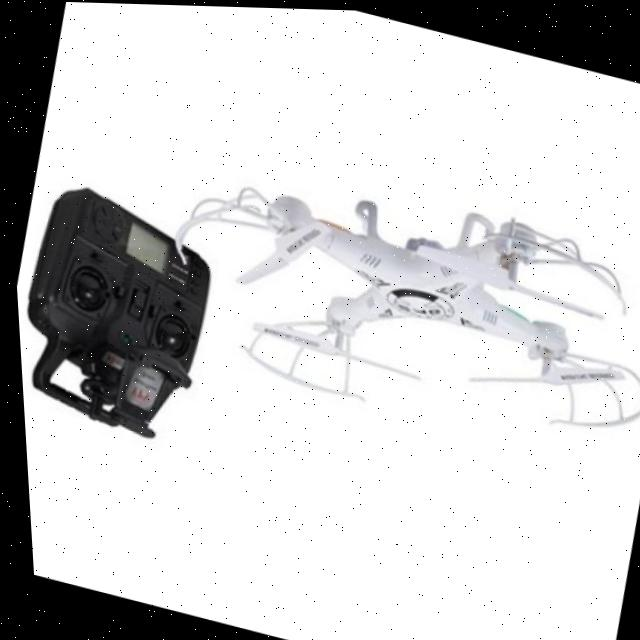drones: (134, 109, 640, 488)
